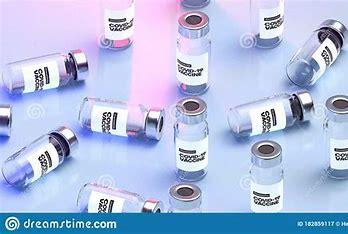Syringe: (72, 90, 168, 142), (224, 87, 320, 135), (172, 7, 218, 98), (171, 90, 211, 183), (244, 143, 288, 211), (325, 92, 348, 180)
